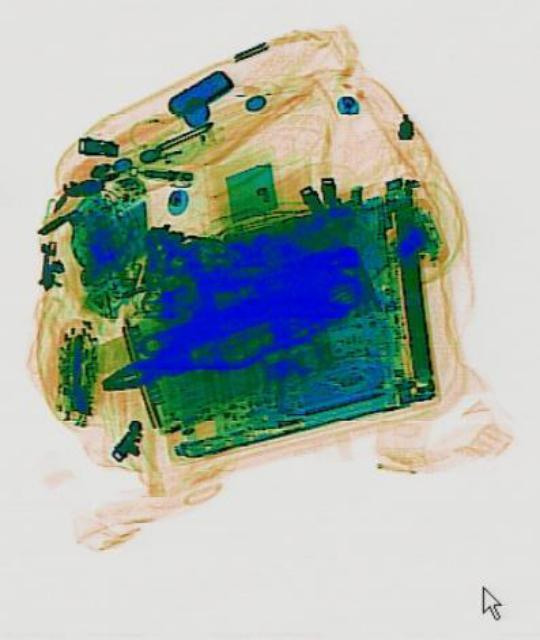Pliers: (91, 286, 309, 414)
